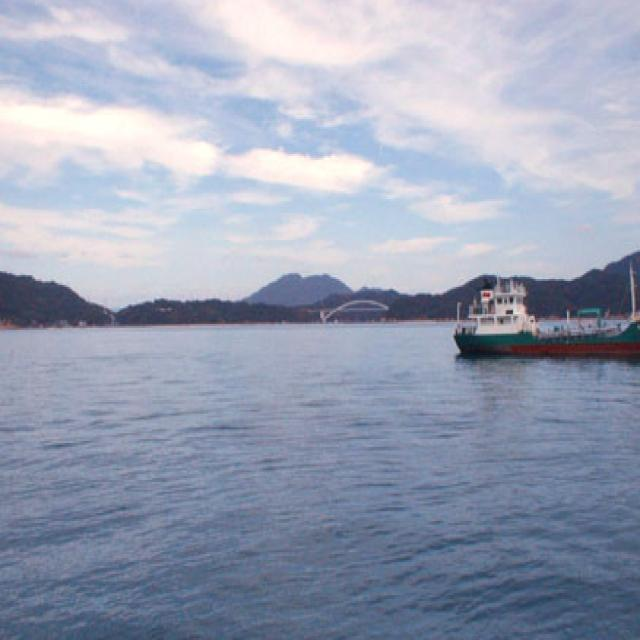fishing boat: (450, 273, 640, 357)
